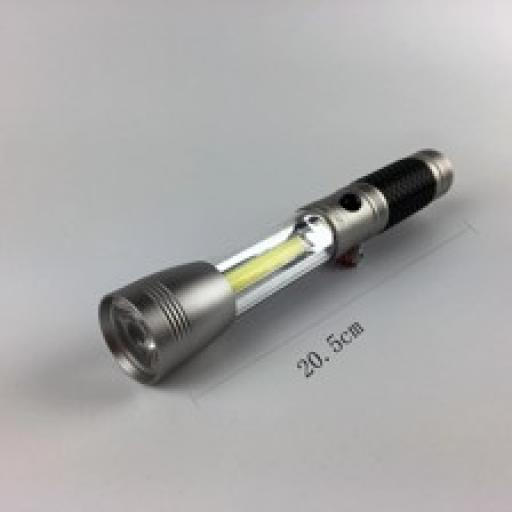lightsaber: (90, 149, 452, 385)
